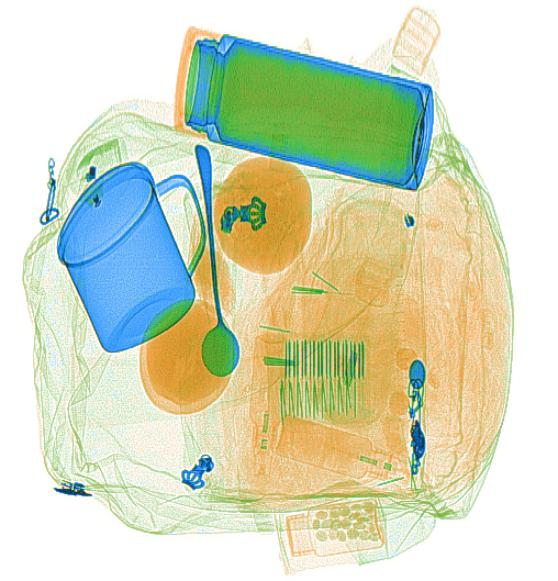plasticBottleWithaNozzle: (271, 410, 415, 485), (251, 332, 290, 479)
